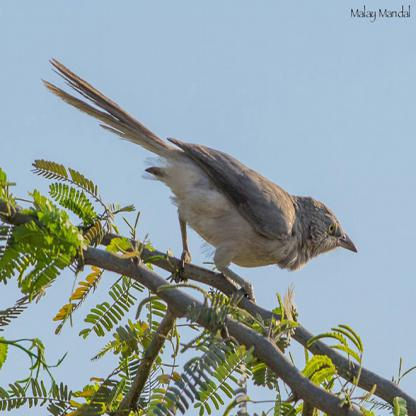Burung: (41, 57, 357, 312)
